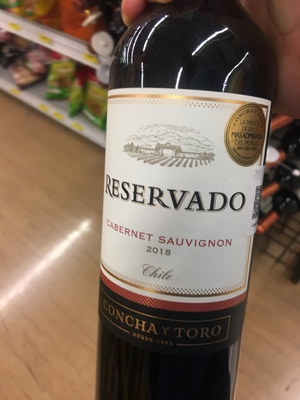reservado cabernet sauvignon: (92, 8, 273, 400)
